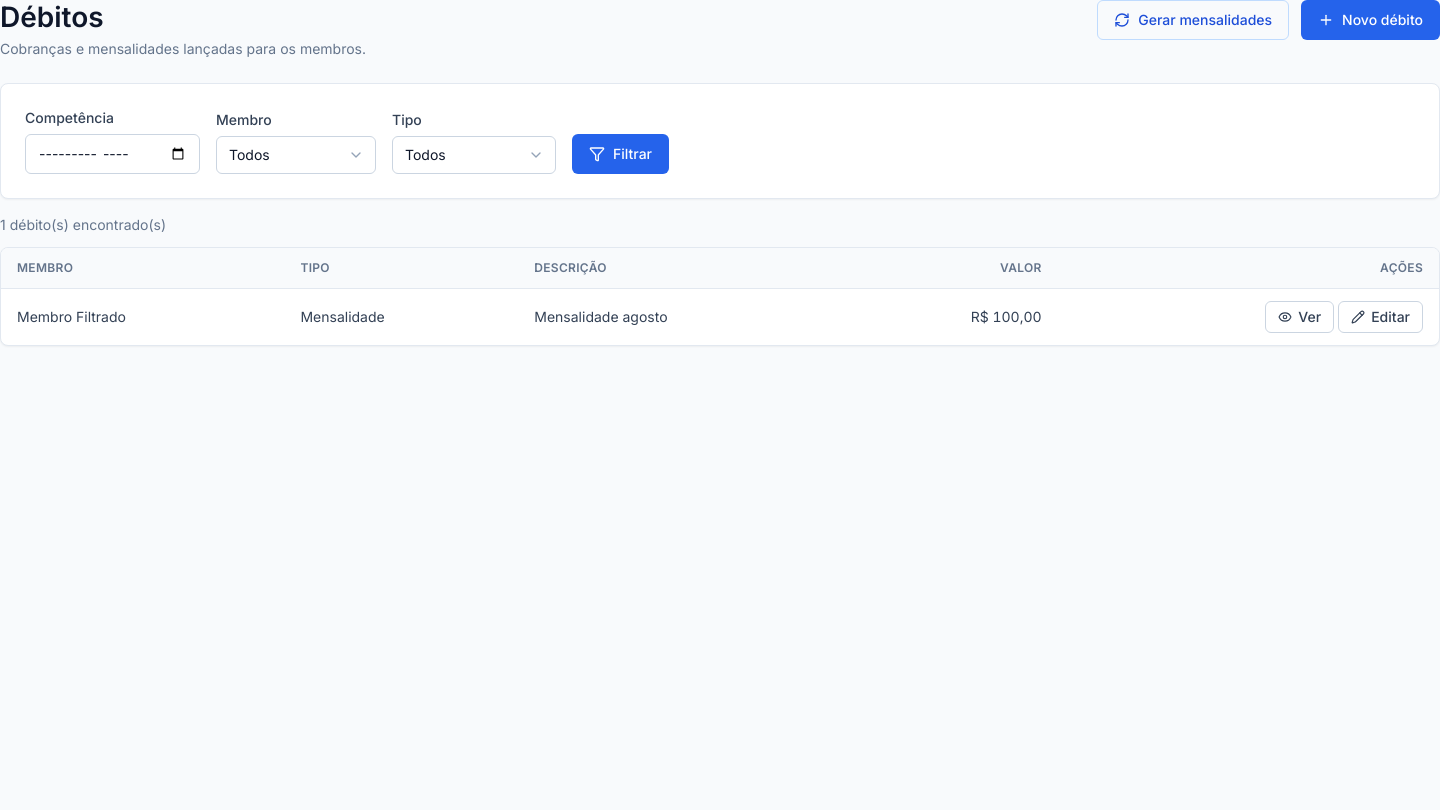
DebitosListPage — gerar mensalidades › mostra só a contagem quando há mais de 10 irmãos já cobrados
Expected: the text "Mensalidade agosto" is shown, [518,288,851,345]
Type "2026-08" into the field labelled "Competência".
click(112, 154); type("2026-08")  # box [25,134,200,174]
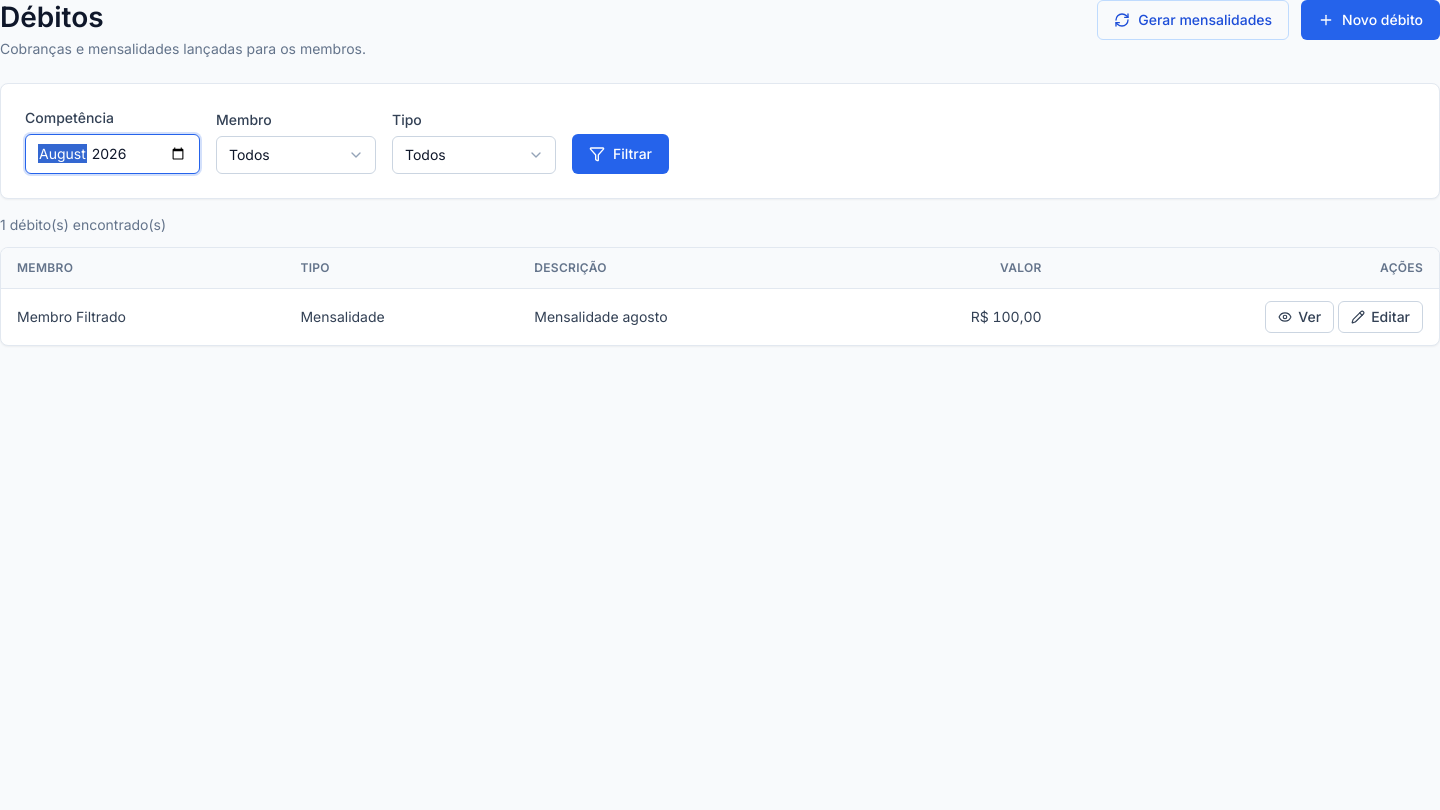
Click the button "Gerar mensalidades".
click(1193, 20)  # box [1097,0,1289,40]
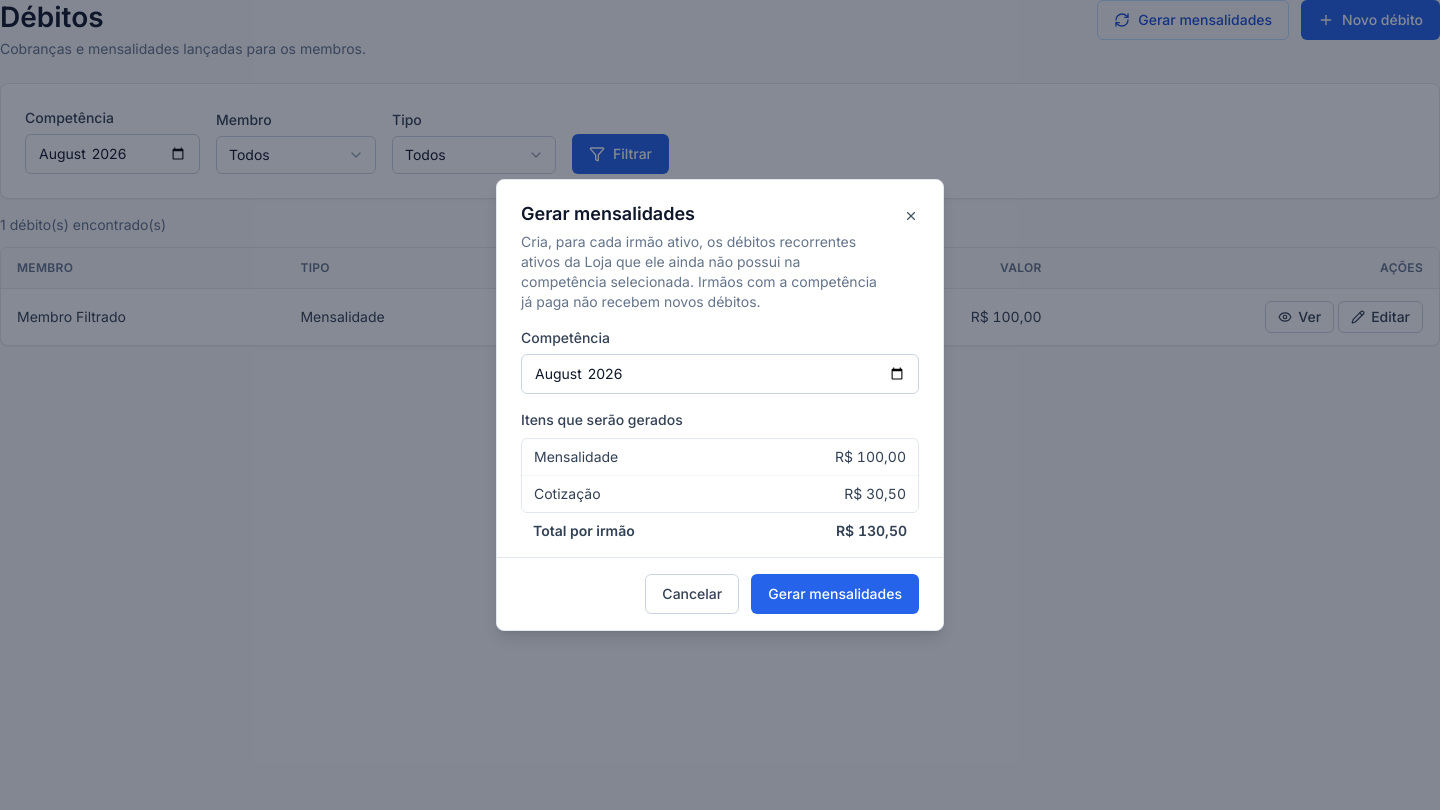
Click the button "Gerar mensalidades".
click(835, 594)  # box [751,574,919,614]
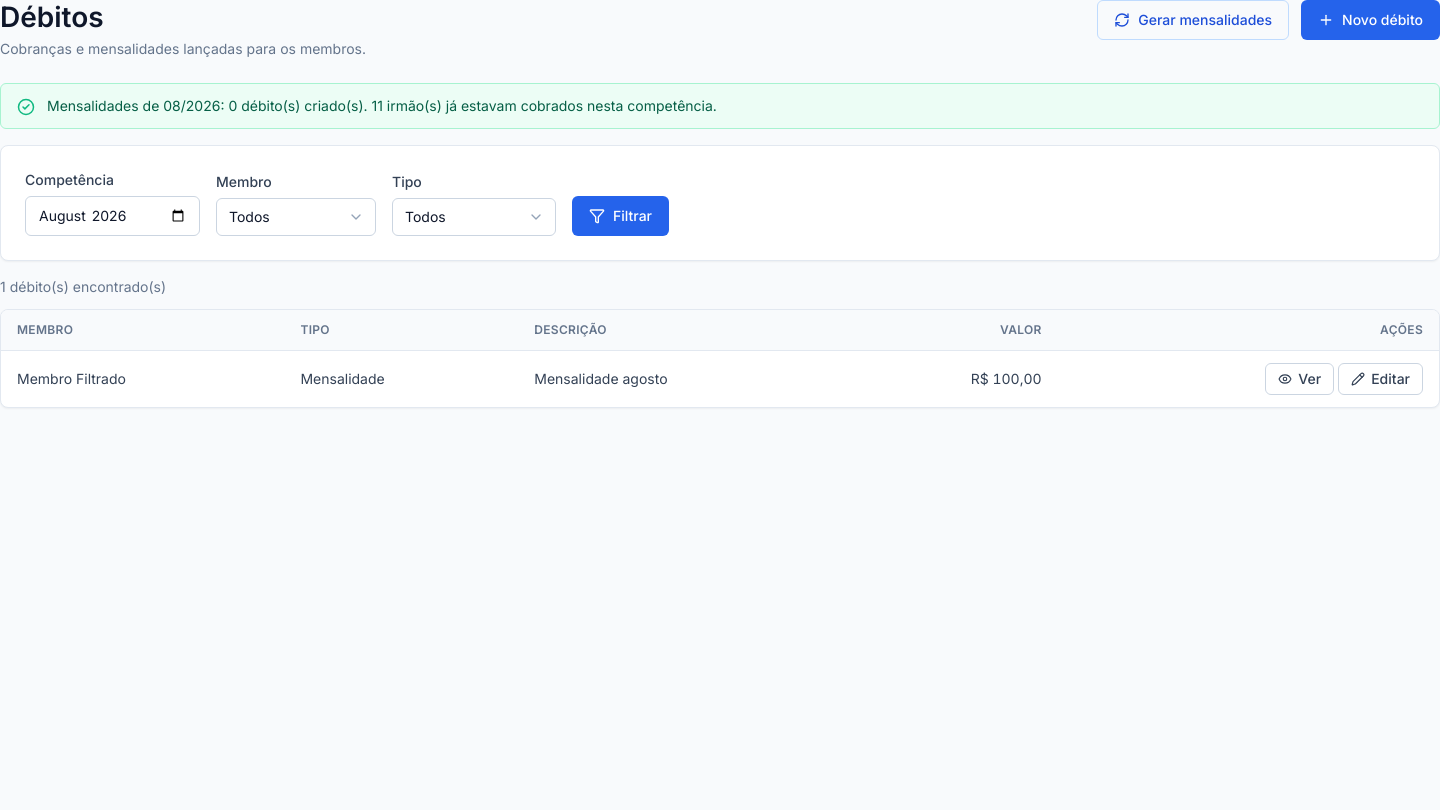
Now the text "11 irmão(s) já estavam cobrados nesta competência." is shown, box [368,97,717,114]
